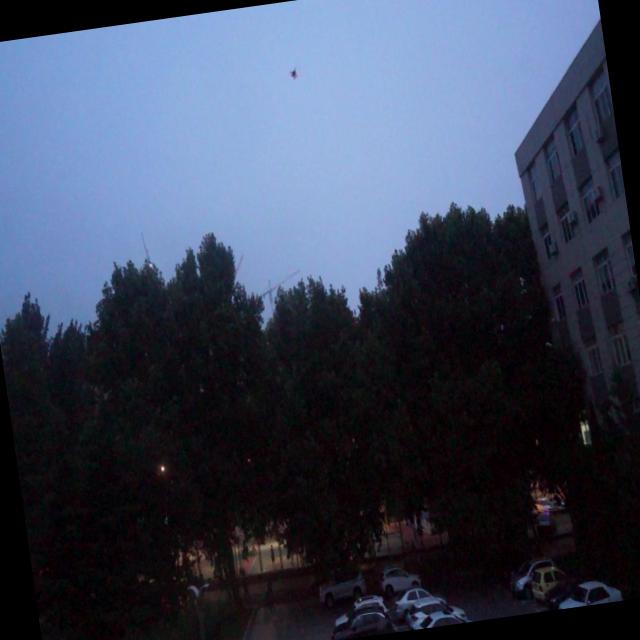drone: (285, 62, 303, 86)
